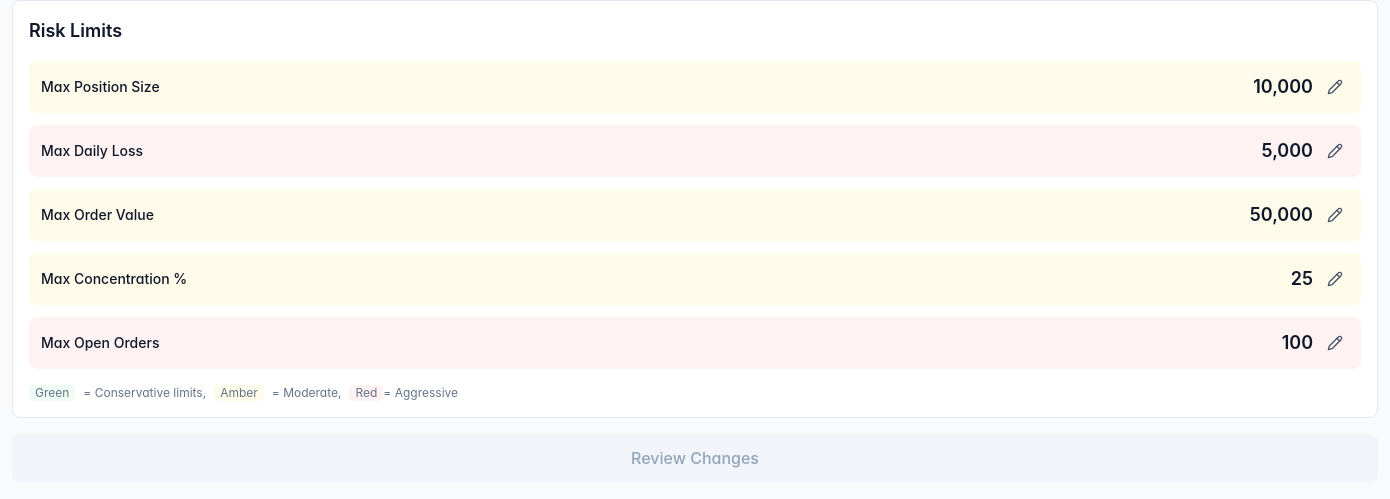
Test: RiskSettingsEditor › enables review button when changes exist
expect the text "Max Position Size" is shown: met, box [41,78,160,95]
# Make a change
Click the button named "Edit Max Position Size": x=1335, y=87 [1321,73,1349,101]
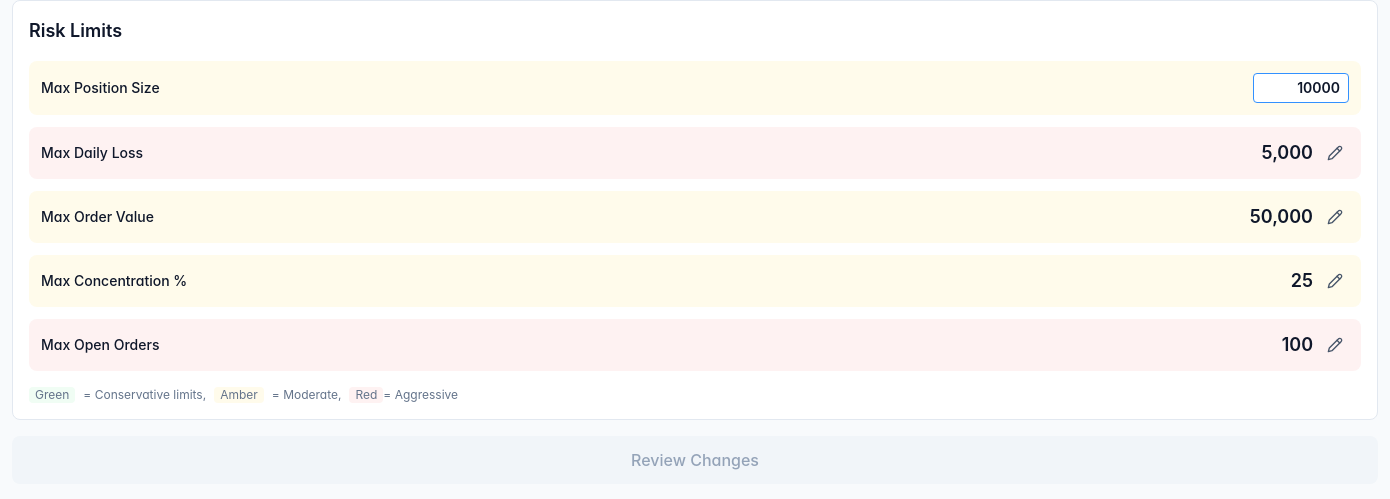
Replace the text in the field showing "10000" with "15000": x=1301, y=88 [1253,73,1349,103]
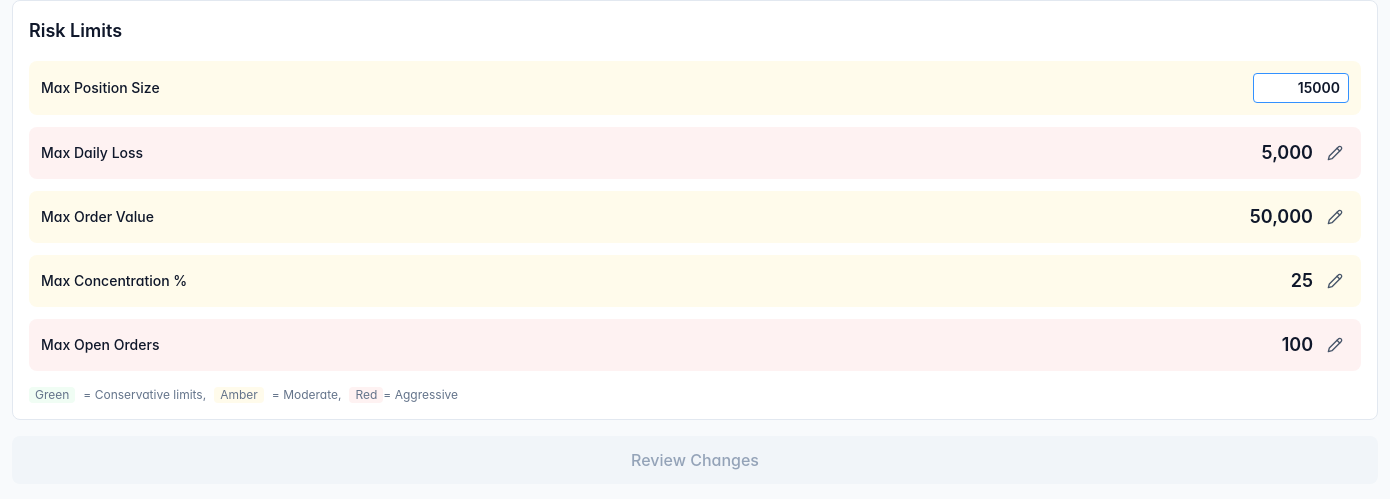
Press Enter
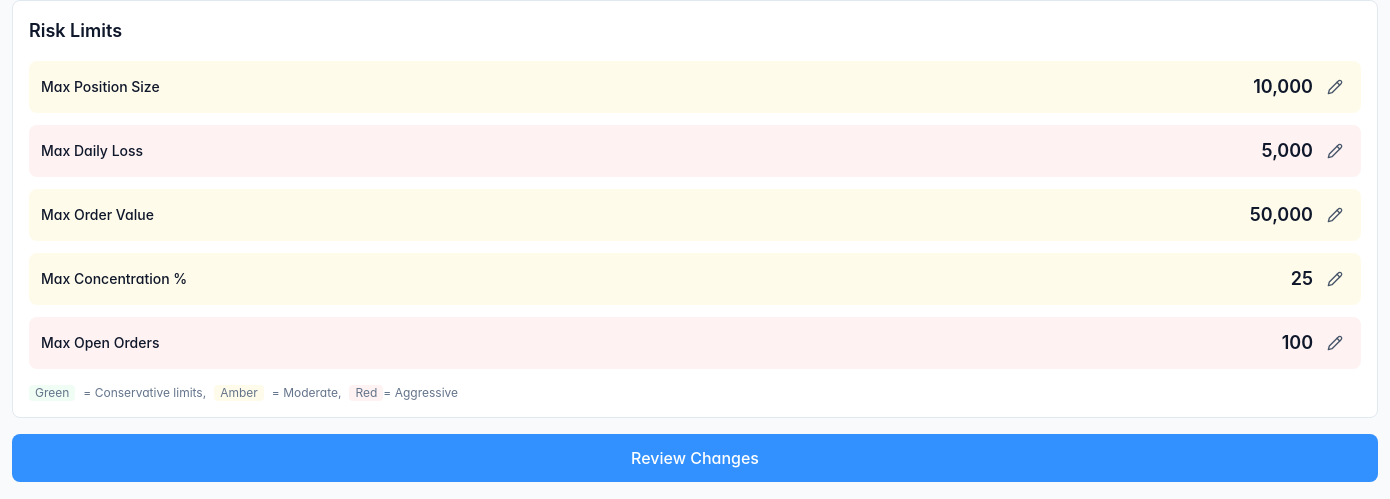
expect the button "Review Changes" is enabled: met, box [12,434,1378,482]
